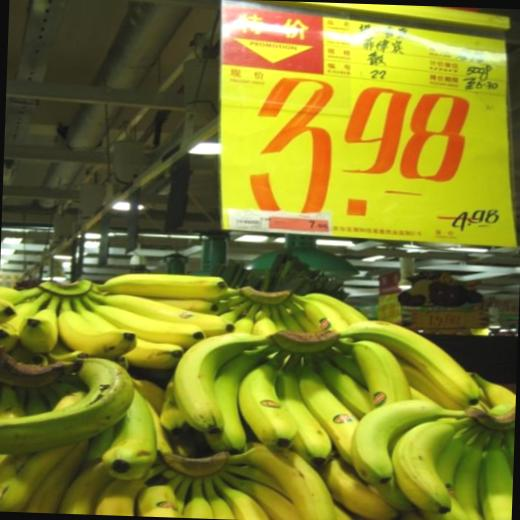Banana: (0, 269, 518, 520), (1, 256, 267, 390), (165, 330, 272, 434)
